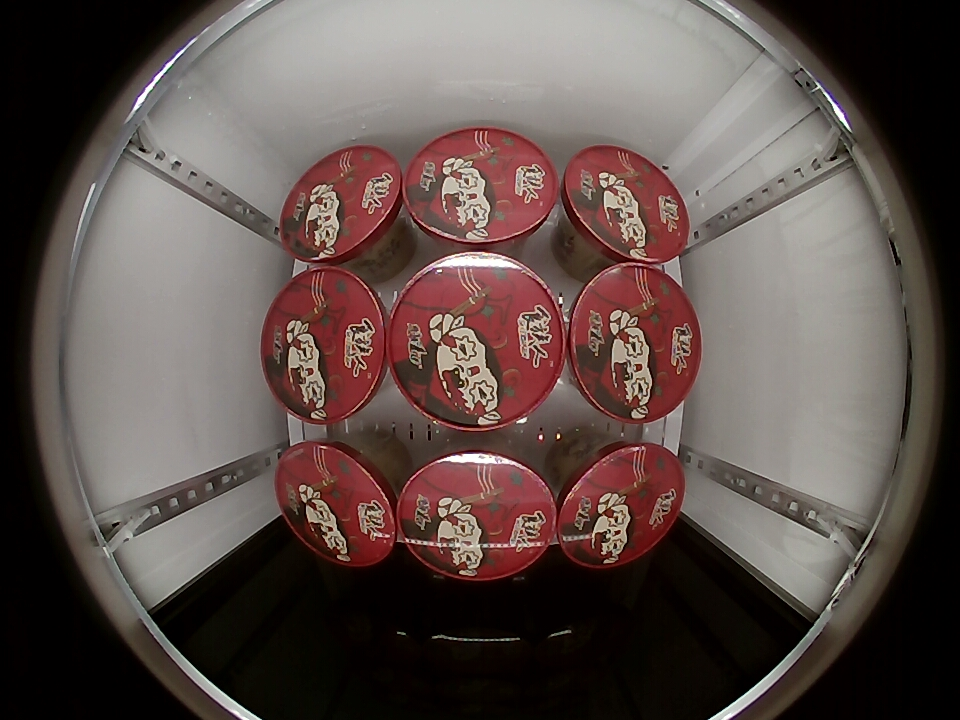suanlafen: (386, 252, 567, 432), (565, 263, 702, 423), (397, 450, 559, 581), (261, 267, 390, 424), (402, 128, 560, 249), (555, 441, 686, 568), (275, 440, 401, 567), (559, 145, 690, 265), (279, 145, 406, 266)
